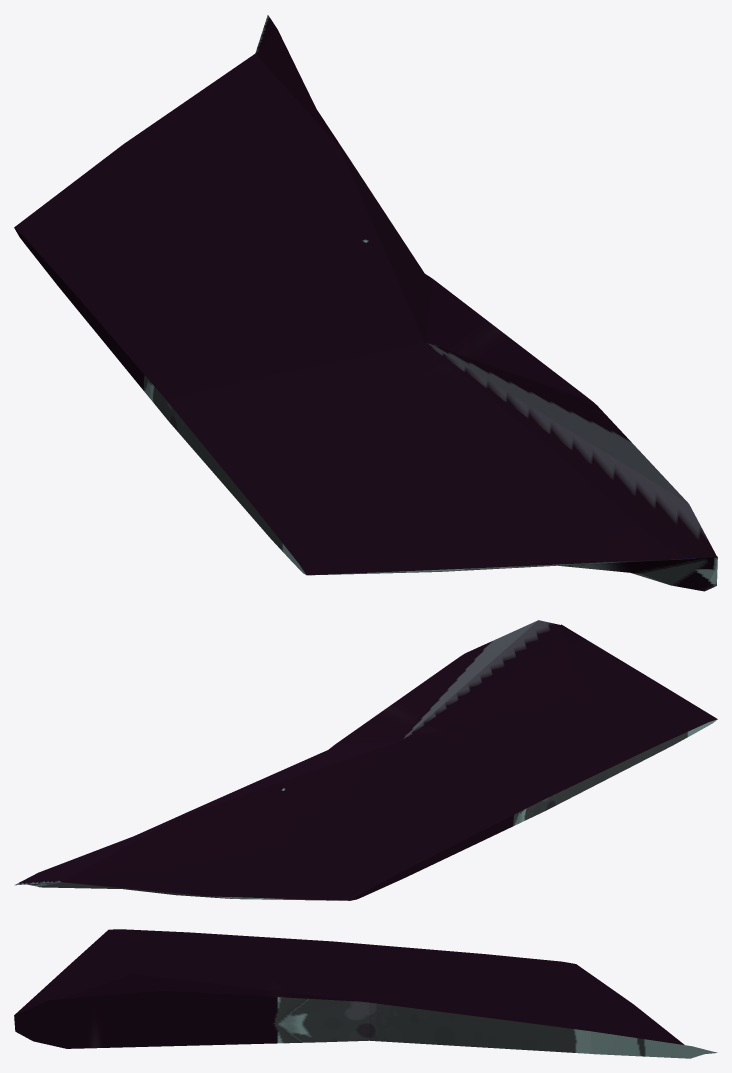
The model's file is one.obj.
The picture shows the model from 3 angles, top to bottom: view 1: azimuth 30°, elevation 25°; view 2: azimuth 150°, elevation 25°; view 3: azimuth 270°, elevation 25°; orthographic projection. The views are drawn at different scales.
Parts seen in each view (by area): view 1: right-hand; view 2: right-hand; view 3: right-hand.
Boxes of the visible parts, x1,y1,x2,y2 form: right-hand: (14, 15, 717, 591); right-hand: (14, 620, 717, 900); right-hand: (14, 929, 717, 1058).
Size of the model in its own units: 4.75 by 0.9645 by 10.21.
1 material, 1 textured.
